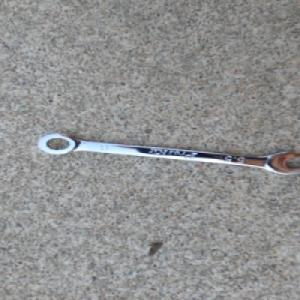Wrench: (35, 132, 300, 176)
